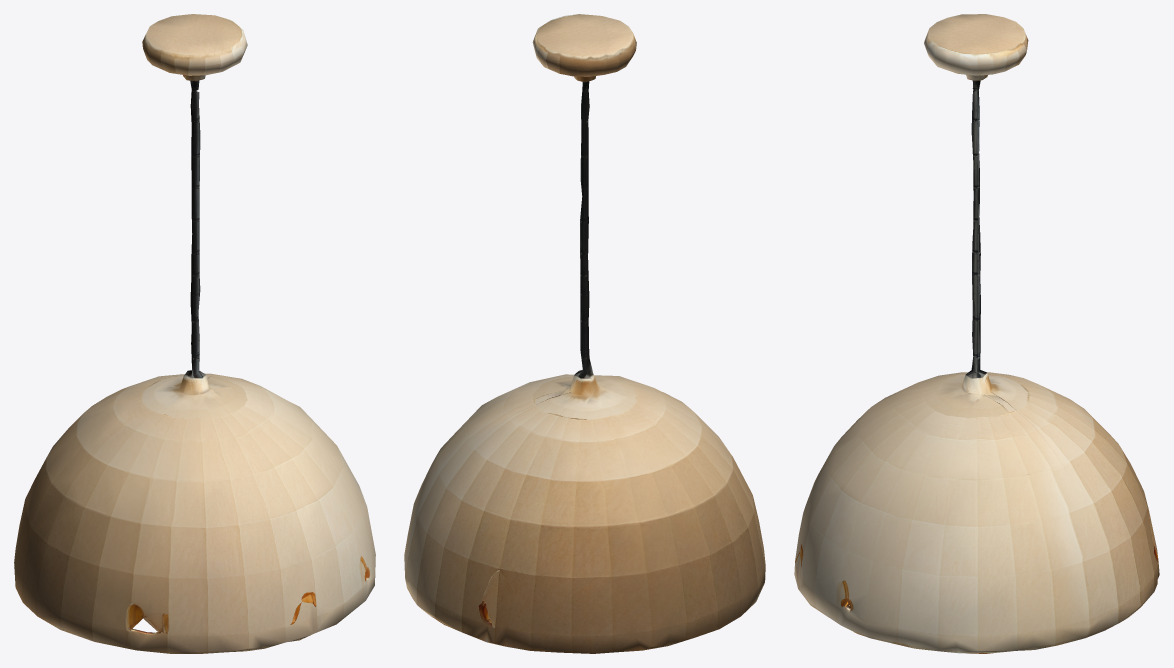
The model's file is P_PendantLamp.fbx.
3 renders of one model, left to right at view 1: azimuth 30°, elevation 25°; view 2: azimuth 150°, elevation 25°; view 3: azimuth 270°, elevation 25°, orthographic.
Visible parts, largest first — view 1: texture_mapping; view 2: texture_mapping; view 3: texture_mapping.
Boxes of the visible parts, left/top/right/bottom form: texture_mapping: left=14, top=14, right=375, bottom=653; texture_mapping: left=404, top=14, right=765, bottom=653; texture_mapping: left=794, top=14, right=1159, bottom=653.
Bounding box in the file's own units: 0.6034 × 0.6046 × 0.9966.
Materials: 1 (1 with a texture image).
